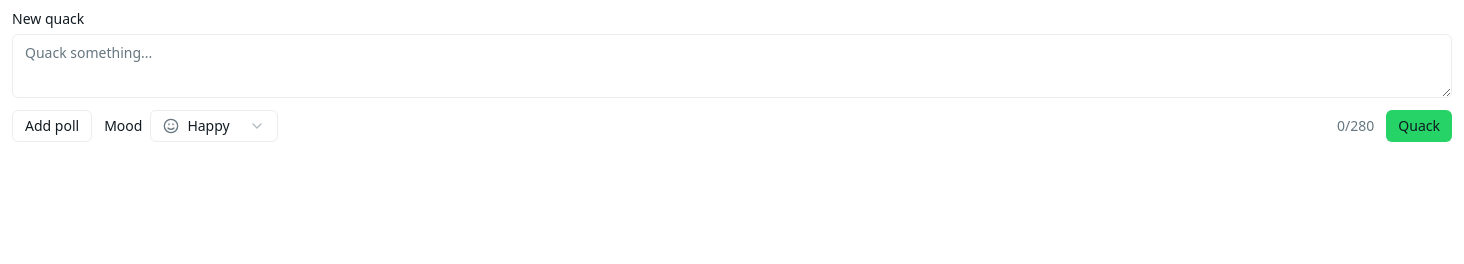
Test: QuackForm › starts the next quack from the default mood again
Click the dropdown named "Mood" at (214, 126), box [150,110,278,142]
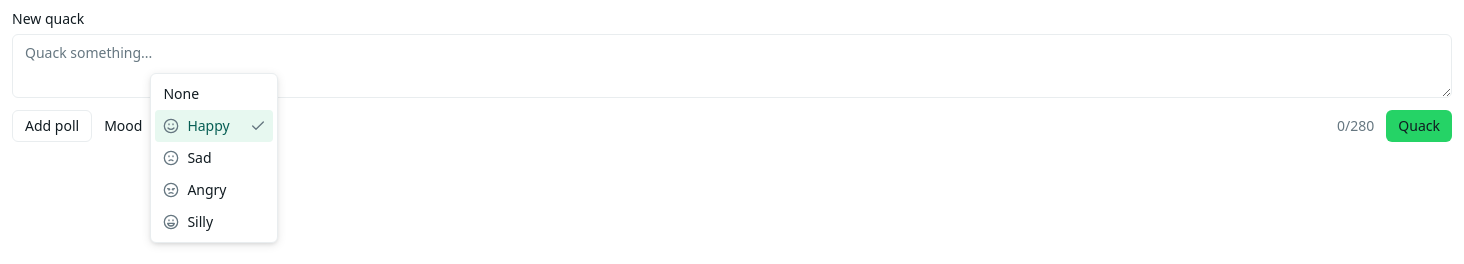
Click the option "None" at (181, 94), box [163,84,199,103]
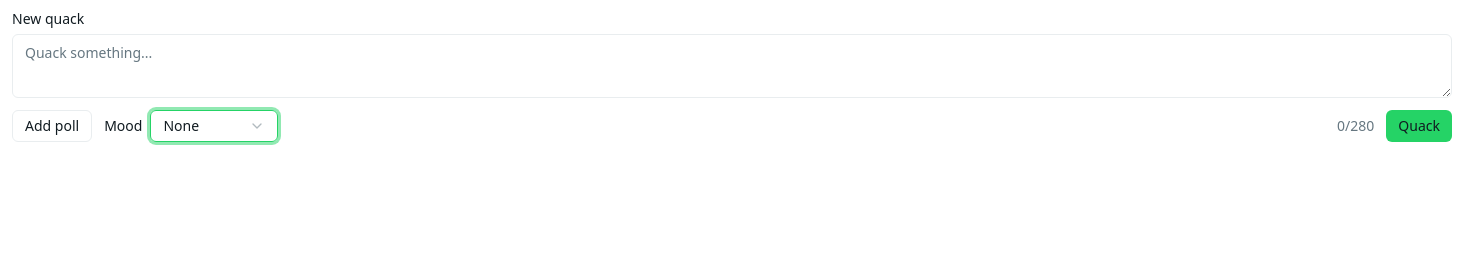
Type "Quack" into the text box labelled "New quack" at (732, 66), box [12,34,1452,98]
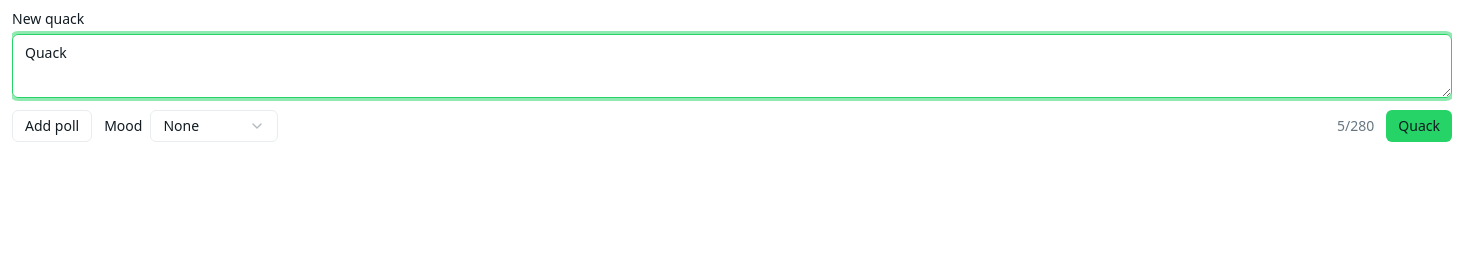
Click the button "Quack" at (1419, 126), box [1386,110,1452,142]
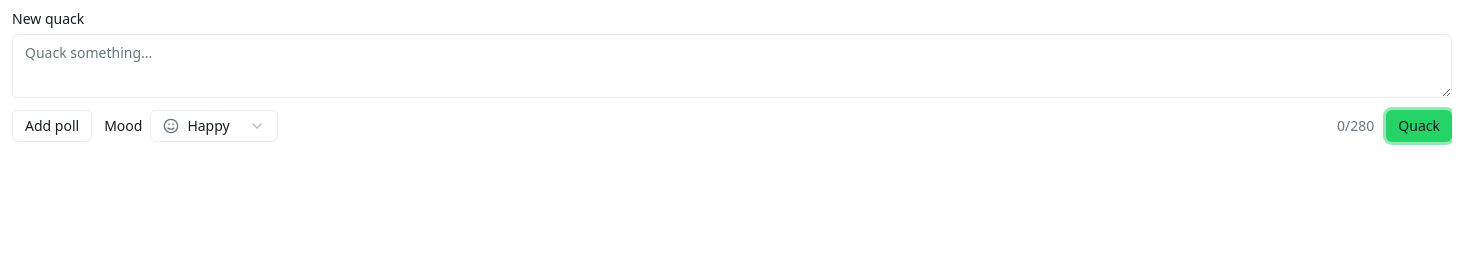
Result: the dropdown named "Mood" reads "Happy" at [150,110,278,142]
